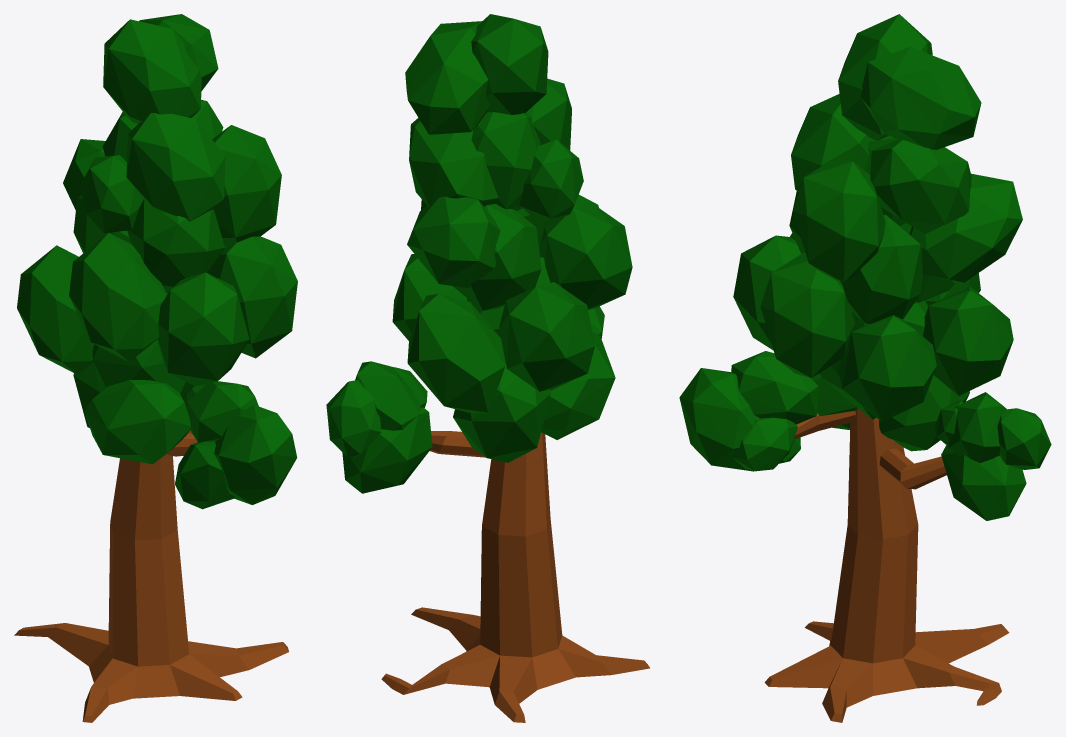
The model's file is tall.glb.
The picture shows the model from 3 angles, left to right: view 1: azimuth 30°, elevation 25°; view 2: azimuth 150°, elevation 25°; view 3: azimuth 270°, elevation 25°; orthographic projection.
Parts seen in each view (by area): view 1: Leaves; view 2: Leaves; view 3: Leaves.
Part boxes in pixels (x1=…): Leaves: x1=14, y1=14, x2=297, y2=722; Leaves: x1=326, y1=14, x2=649, y2=722; Leaves: x1=679, y1=14, x2=1051, y2=722.
Size of the model in its own units: 4.08 by 11.49 by 5.91.
